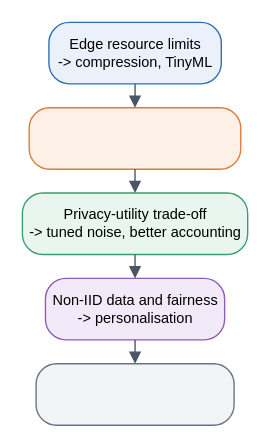
This 271x448 diagram has some shape labels left out. Here are the shapes that lost their labels. From the top down, the centre of each, then its label:
point (134, 137): Communication overhead -> sparsification, fewer rounds
point (134, 393): Deployment and governance -> policy-as-code, MLOps
